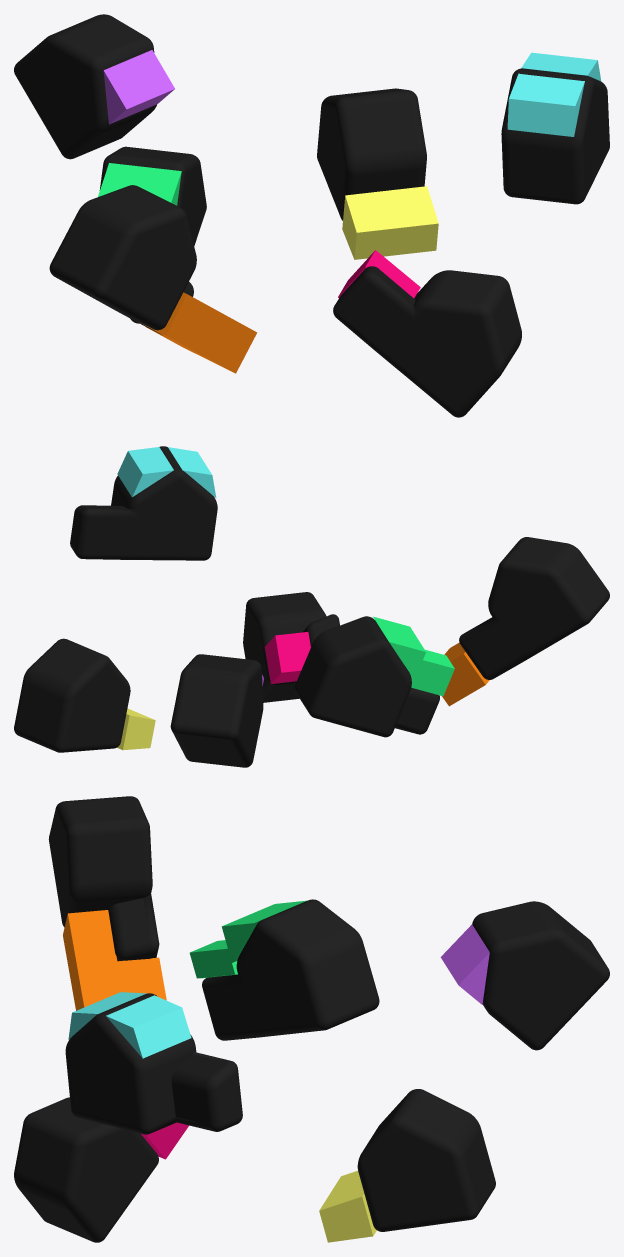
File: solidus_launch.obj
3 views of the same model, one above another, from view 1: azimuth 30°, elevation 25°; view 2: azimuth 150°, elevation 25°; view 3: azimuth 270°, elevation 25° (orthographic). The views are drawn at different scales.
Parts seen in each view (by area): view 1: Mesh3 Group5 Group4 Model, Mesh5 Group7 Group6 Model, Mesh12 Group13 Group12 Model, Mesh1 Group2 Group1 Model, Mesh9 Group11 Group10 Model, Mesh2 Group3 Group1 Model, Mesh6 Group6 Model, Mesh11 Group10 Model, Mesh13 Group12 Model, Mesh7 Group9 Group8 Model, Mesh8 Group8 Model, Mesh10 Group10 Model (+1 smaller); view 2: Mesh5 Group7 Group6 Model, Mesh7 Group9 Group8 Model, Mesh9 Group11 Group10 Model, Mesh1 Group2 Group1 Model, Mesh12 Group13 Group12 Model, Mesh3 Group5 Group4 Model, Mesh8 Group8 Model, Mesh4 Group4 Model, Mesh10 Group10 Model, Mesh6 Group6 Model, Mesh2 Group3 Group1 Model, Mesh11 Group10 Model; view 3: Mesh7 Group9 Group8 Model, Mesh9 Group11 Group10 Model, Mesh1 Group2 Group1 Model, Mesh3 Group5 Group4 Model, Mesh5 Group7 Group6 Model, Mesh12 Group13 Group12 Model, Mesh6 Group6 Model, Mesh10 Group10 Model, Mesh2 Group3 Group1 Model, Mesh8 Group8 Model, Mesh13 Group12 Model, Mesh11 Group10 Model (+1 smaller).
Boxes of the visible parts, x1,y1,x2,y2 form: Mesh3 Group5 Group4 Model: [333, 266, 521, 417]; Mesh5 Group7 Group6 Model: [49, 185, 196, 334]; Mesh12 Group13 Group12 Model: [14, 14, 156, 159]; Mesh1 Group2 Group1 Model: [317, 88, 426, 220]; Mesh9 Group11 Group10 Model: [501, 68, 609, 204]; Mesh2 Group3 Group1 Model: [342, 186, 438, 259]; Mesh6 Group6 Model: [141, 292, 257, 373]; Mesh11 Group10 Model: [507, 73, 584, 136]; Mesh13 Group12 Model: [103, 50, 174, 124]; Mesh7 Group9 Group8 Model: [99, 146, 206, 323]; Mesh8 Group8 Model: [98, 163, 181, 205]; Mesh10 Group10 Model: [521, 52, 601, 81]; Mesh5 Group7 Group6 Model: [459, 537, 609, 679]; Mesh7 Group9 Group8 Model: [294, 616, 439, 737]; Mesh9 Group11 Group10 Model: [70, 446, 217, 560]; Mesh1 Group2 Group1 Model: [14, 638, 130, 752]; Mesh12 Group13 Group12 Model: [170, 654, 263, 767]; Mesh3 Group5 Group4 Model: [243, 592, 339, 702]; Mesh8 Group8 Model: [373, 616, 454, 696]; Mesh4 Group4 Model: [264, 632, 310, 683]; Mesh10 Group10 Model: [117, 447, 173, 497]; Mesh6 Group6 Model: [442, 642, 489, 706]; Mesh2 Group3 Group1 Model: [117, 708, 155, 750]; Mesh11 Group10 Model: [168, 447, 216, 497]; Mesh7 Group9 Group8 Model: [202, 899, 379, 1040]; Mesh9 Group11 Group10 Model: [65, 993, 242, 1134]; Mesh1 Group2 Group1 Model: [357, 1089, 495, 1231]; Mesh3 Group5 Group4 Model: [14, 1097, 158, 1242]; Mesh5 Group7 Group6 Model: [48, 796, 159, 961]; Mesh12 Group13 Group12 Model: [472, 901, 609, 1050]; Mesh6 Group6 Model: [63, 910, 166, 1010]; Mesh10 Group10 Model: [106, 995, 191, 1058]; Mesh2 Group3 Group1 Model: [319, 1170, 376, 1242]; Mesh8 Group8 Model: [189, 900, 306, 978]; Mesh13 Group12 Model: [440, 924, 489, 1004]; Mesh11 Group10 Model: [68, 992, 146, 1039].
Bounding box in the file's own units: 16.79 × 7.84 × 14.96.
